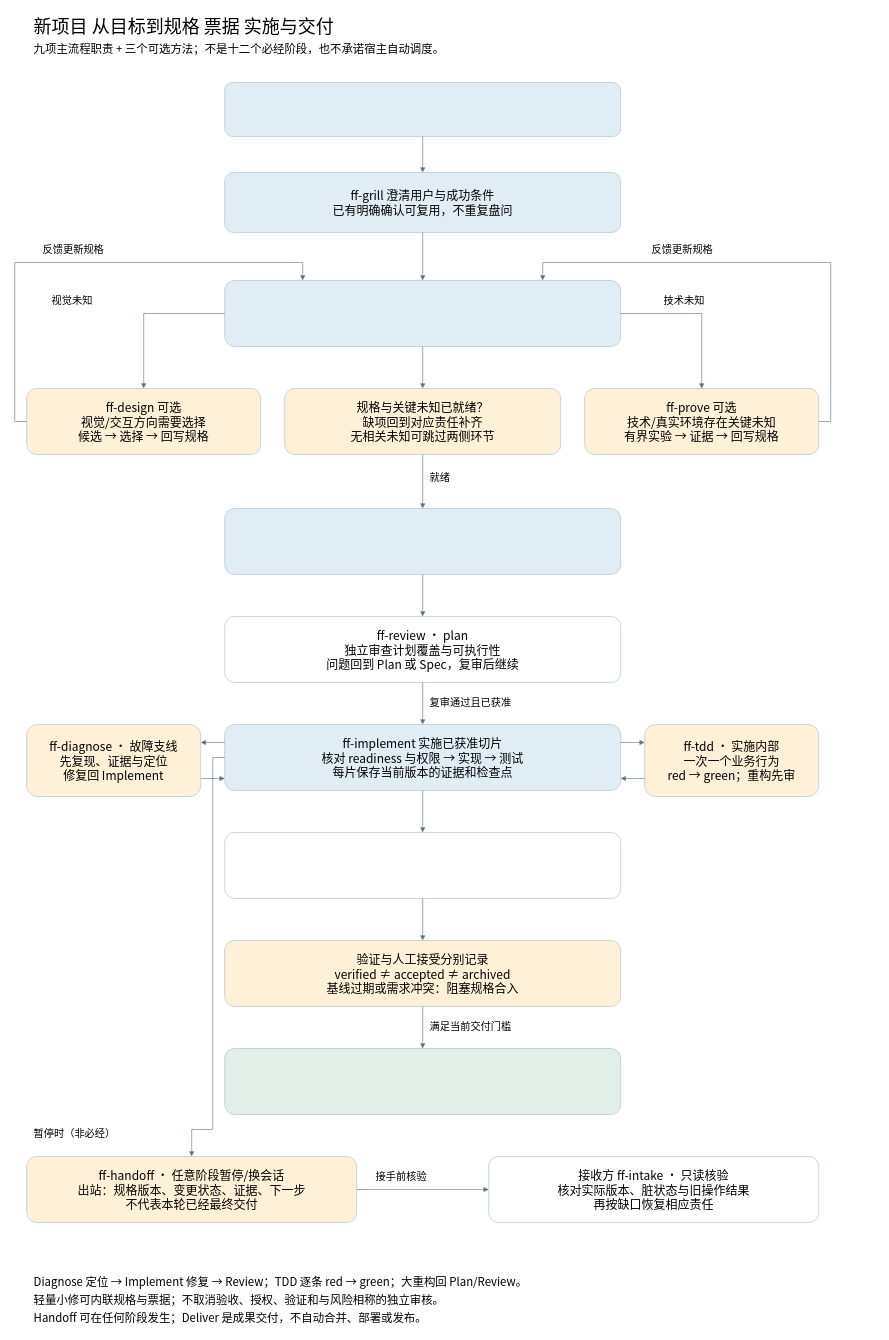
The diagram is 889 pixels wide and 1340 high, and some of its shapes have lost their labels. Each missing label, with the box of its shape:
ff-deliver 交付并记录规格状态 满足门槛：规格合入 → 归档；取消：不合入归档 PR 可选；不自动合并主分支或发布: (224, 1048, 621, 1114)
ff-plan 把确认变更拆成可执行票据 任务 → 需求 ID → 验收与版本证据: (224, 508, 621, 574)
ff-review · goal-mainflow + code 独立检查目标/真实主流程及代码风险 缺陷返回 Implement；需求偏移返回 Spec: (224, 832, 621, 898)
ff-spec 确认基线与稳定需求 ID 当前有效规格 + 活跃变更；验收可追踪: (224, 280, 621, 346)
明确目标、范围与授权 新项目通常从 ff-grill 开始: (224, 82, 621, 136)
